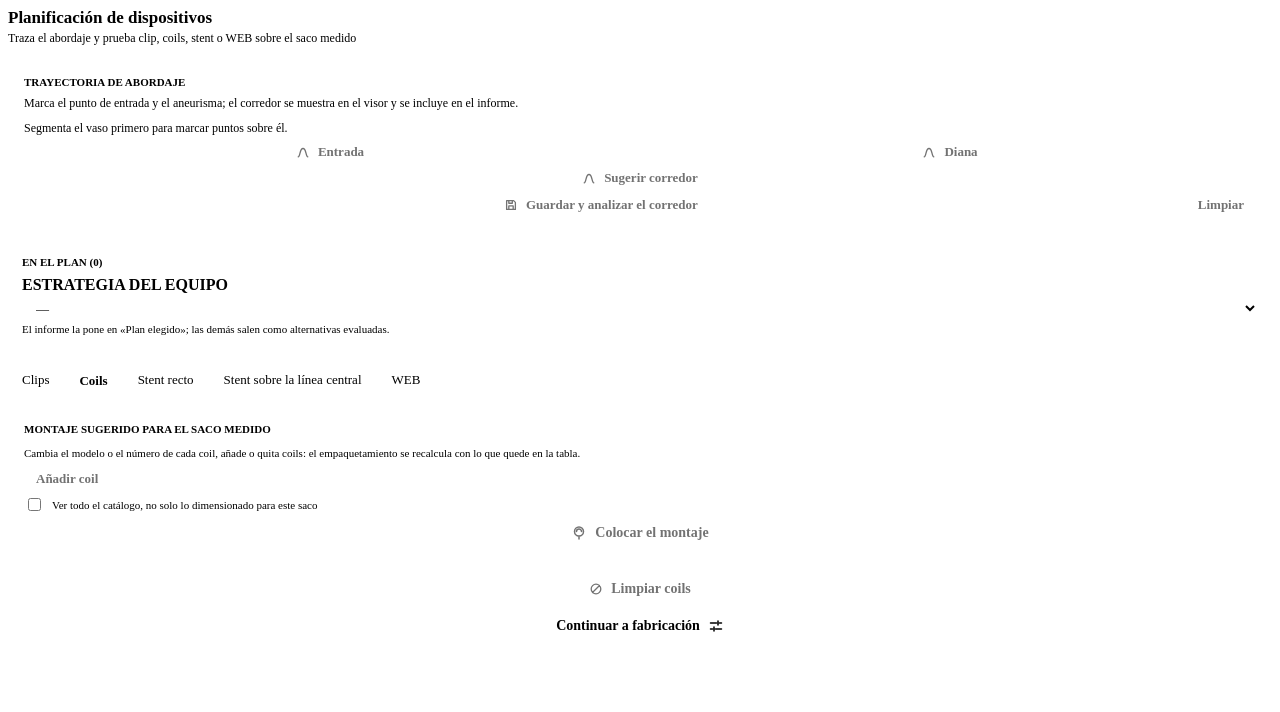
Test: una sola vía de coils (decisión nº 24) › no hay segundo formulario de coils
The width and height of the screenshot is (1280, 712).
Click the button "Coils" at (94, 380), box [66,364,122,398]
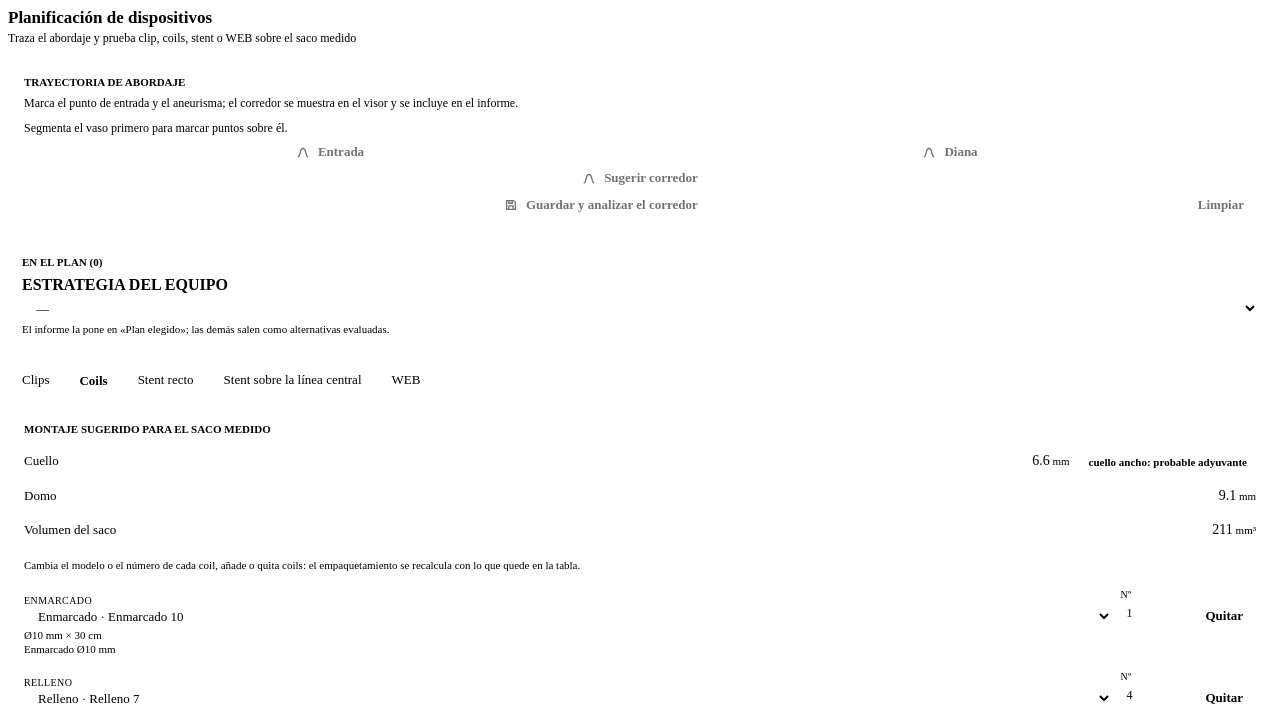
Now the dropdown named "Modelo (fila 1)" is shown, box [24,608,1112,625]
